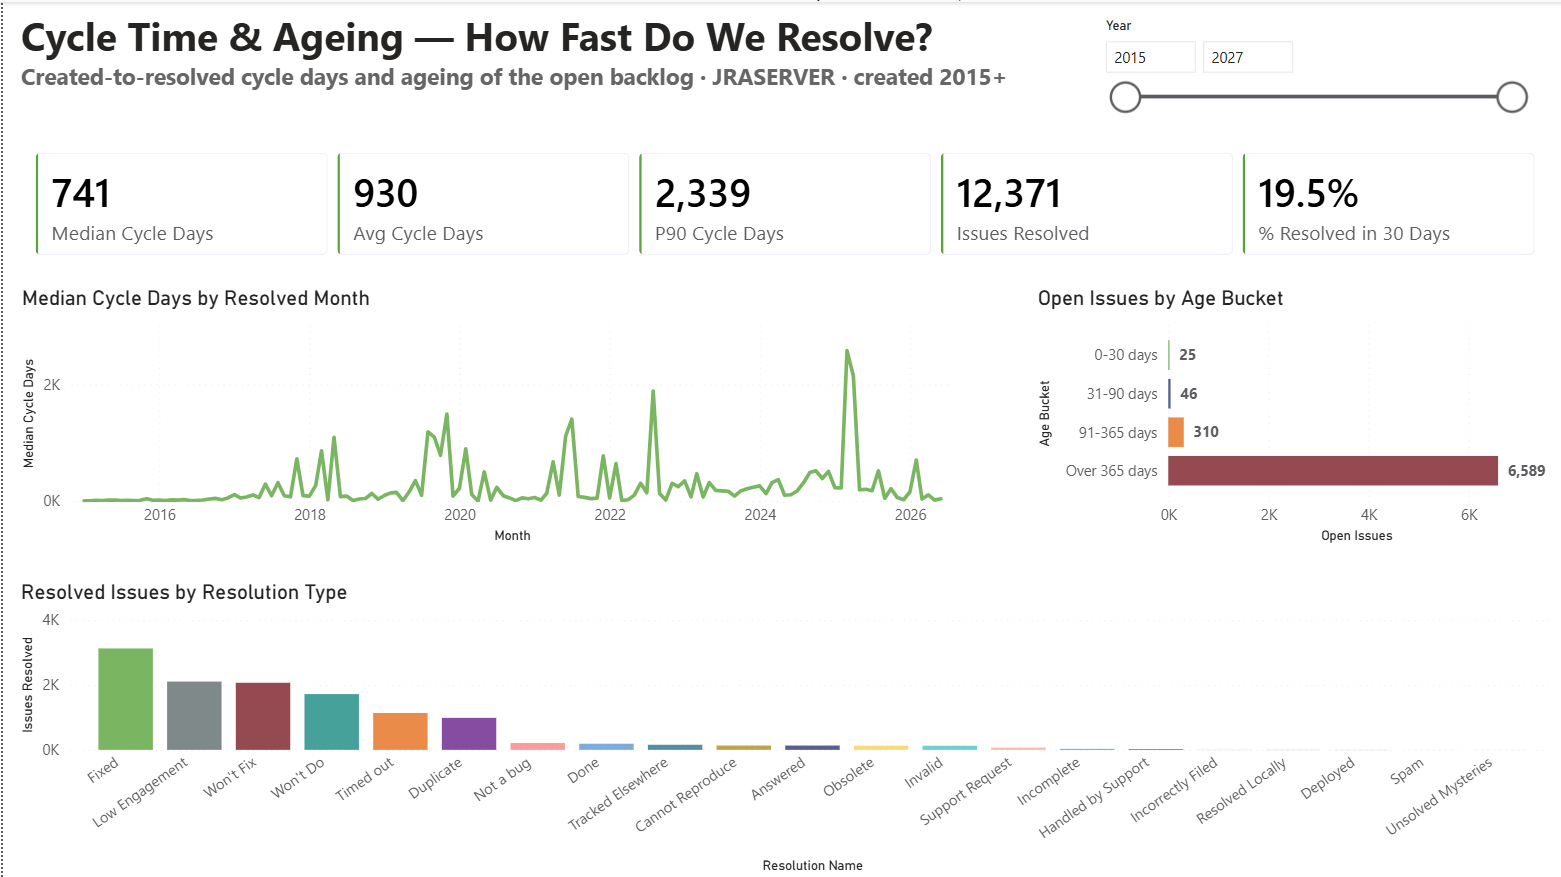

Layout of this report page (visuals, bound fields, positions):
{"tool":"powerbi","page":{"name":"Cycle Time & Ageing","canvas":[1280,720],"ordinal":1},"visuals":[{"type":"textbox","box":[10,0,835.9,97],"z":0},{"type":"cardVisual","fields":{"Data":["_Measures.Median Cycle Days","_Measures.Avg Cycle Days","_Measures.P90 Cycle Days","_Measures.Issues Resolved (Perf)","_Measures.% Resolved in 30 Days"]},"box":[9.6,107.1,1270.4,118.4],"z":1000},{"type":"slicer","fields":{"Values":["pbi vw_dim_date.calendar_year"]},"box":[893.4,7.8,367.5,89.7],"z":2000},{"type":"lineChart","title":"Median Cycle Days by Resolved Month","fields":{"Category":["pbi vw_dim_date.month_start_date"],"Y":["_Measures.Median Cycle Days (Trend)"]},"box":[10.6,233.3,778.2,215.7],"z":2001},{"type":"columnChart","title":"Resolved Issues by Resolution Type","fields":{"Y":["_Measures.Issues Resolved (Perf)"],"Category":["pbi vw_resolution_performance.resolution_name"],"Series":["pbi vw_resolution_performance.resolution_name"]},"box":[10,475,1270.3,245.6],"z":2002},{"type":"barChart","title":"Open Issues by Age Bucket","fields":{"Category":["pbi vw_resolution_performance.age_bucket"],"Y":["_Measures.Open Issues (Ageing)"]},"box":[846,233.3,434,215.7],"z":2003}]}

Visuals, with their boxes in screenshot pixels (x1, y1, x2, y2), scaled from the page's 1280x720 canvas onto the 1561x877 screenshot:
textbox: left=12, top=0, right=1032, bottom=118
cardVisual - _Measures.Median Cycle Days x _Measures.Avg Cycle Days: left=12, top=130, right=1560, bottom=275
slicer - pbi vw_dim_date.calendar_year: left=1090, top=10, right=1538, bottom=119
"Median Cycle Days by Resolved Month" lineChart: left=13, top=284, right=962, bottom=547
"Resolved Issues by Resolution Type" columnChart: left=12, top=579, right=1560, bottom=876
"Open Issues by Age Bucket" barChart: left=1032, top=284, right=1560, bottom=547
